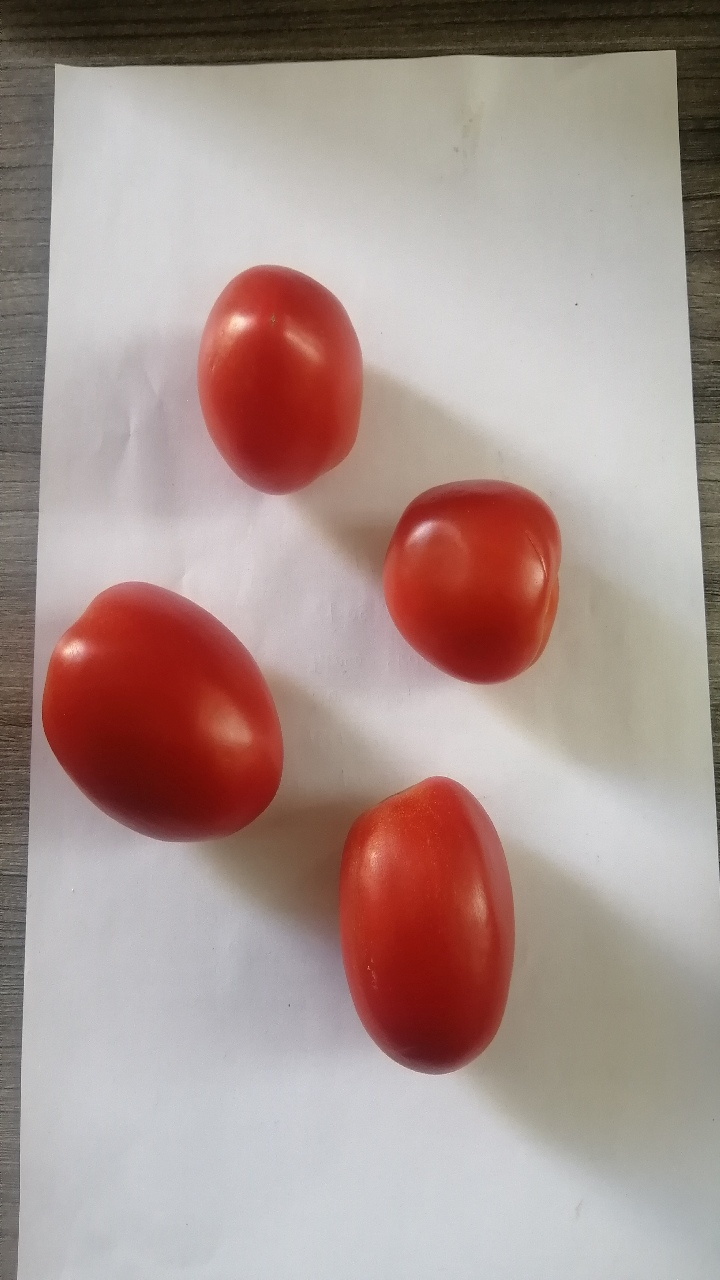tomateRojo: (37, 560, 300, 860), (321, 765, 534, 1100), (361, 440, 575, 702), (169, 255, 383, 515)
